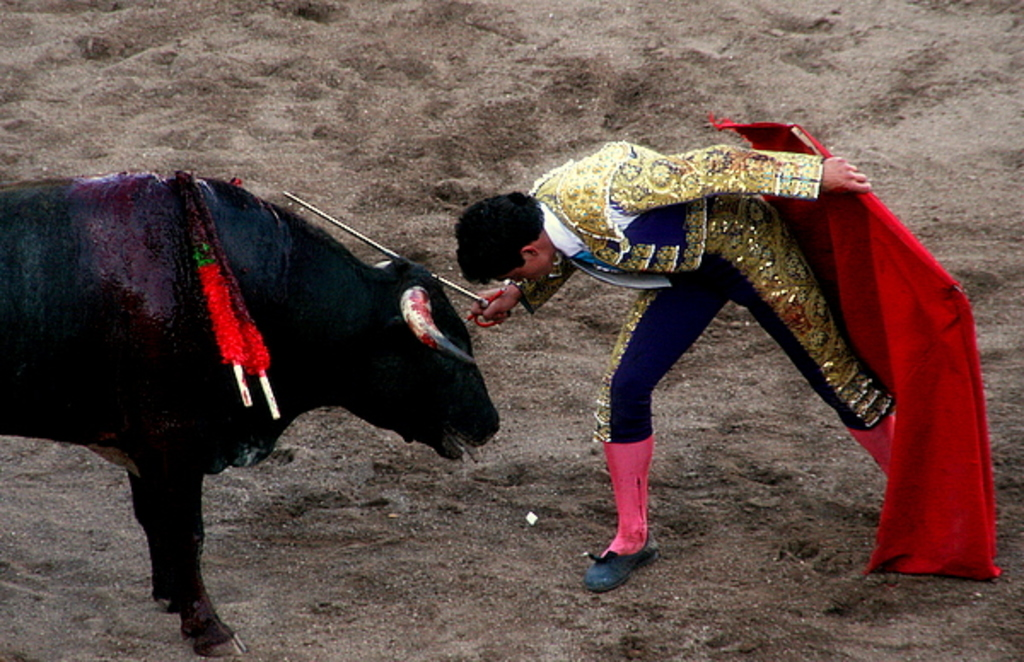Person: (454, 142, 895, 592)
